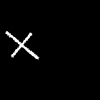single_crochet: (6, 32, 38, 58)
